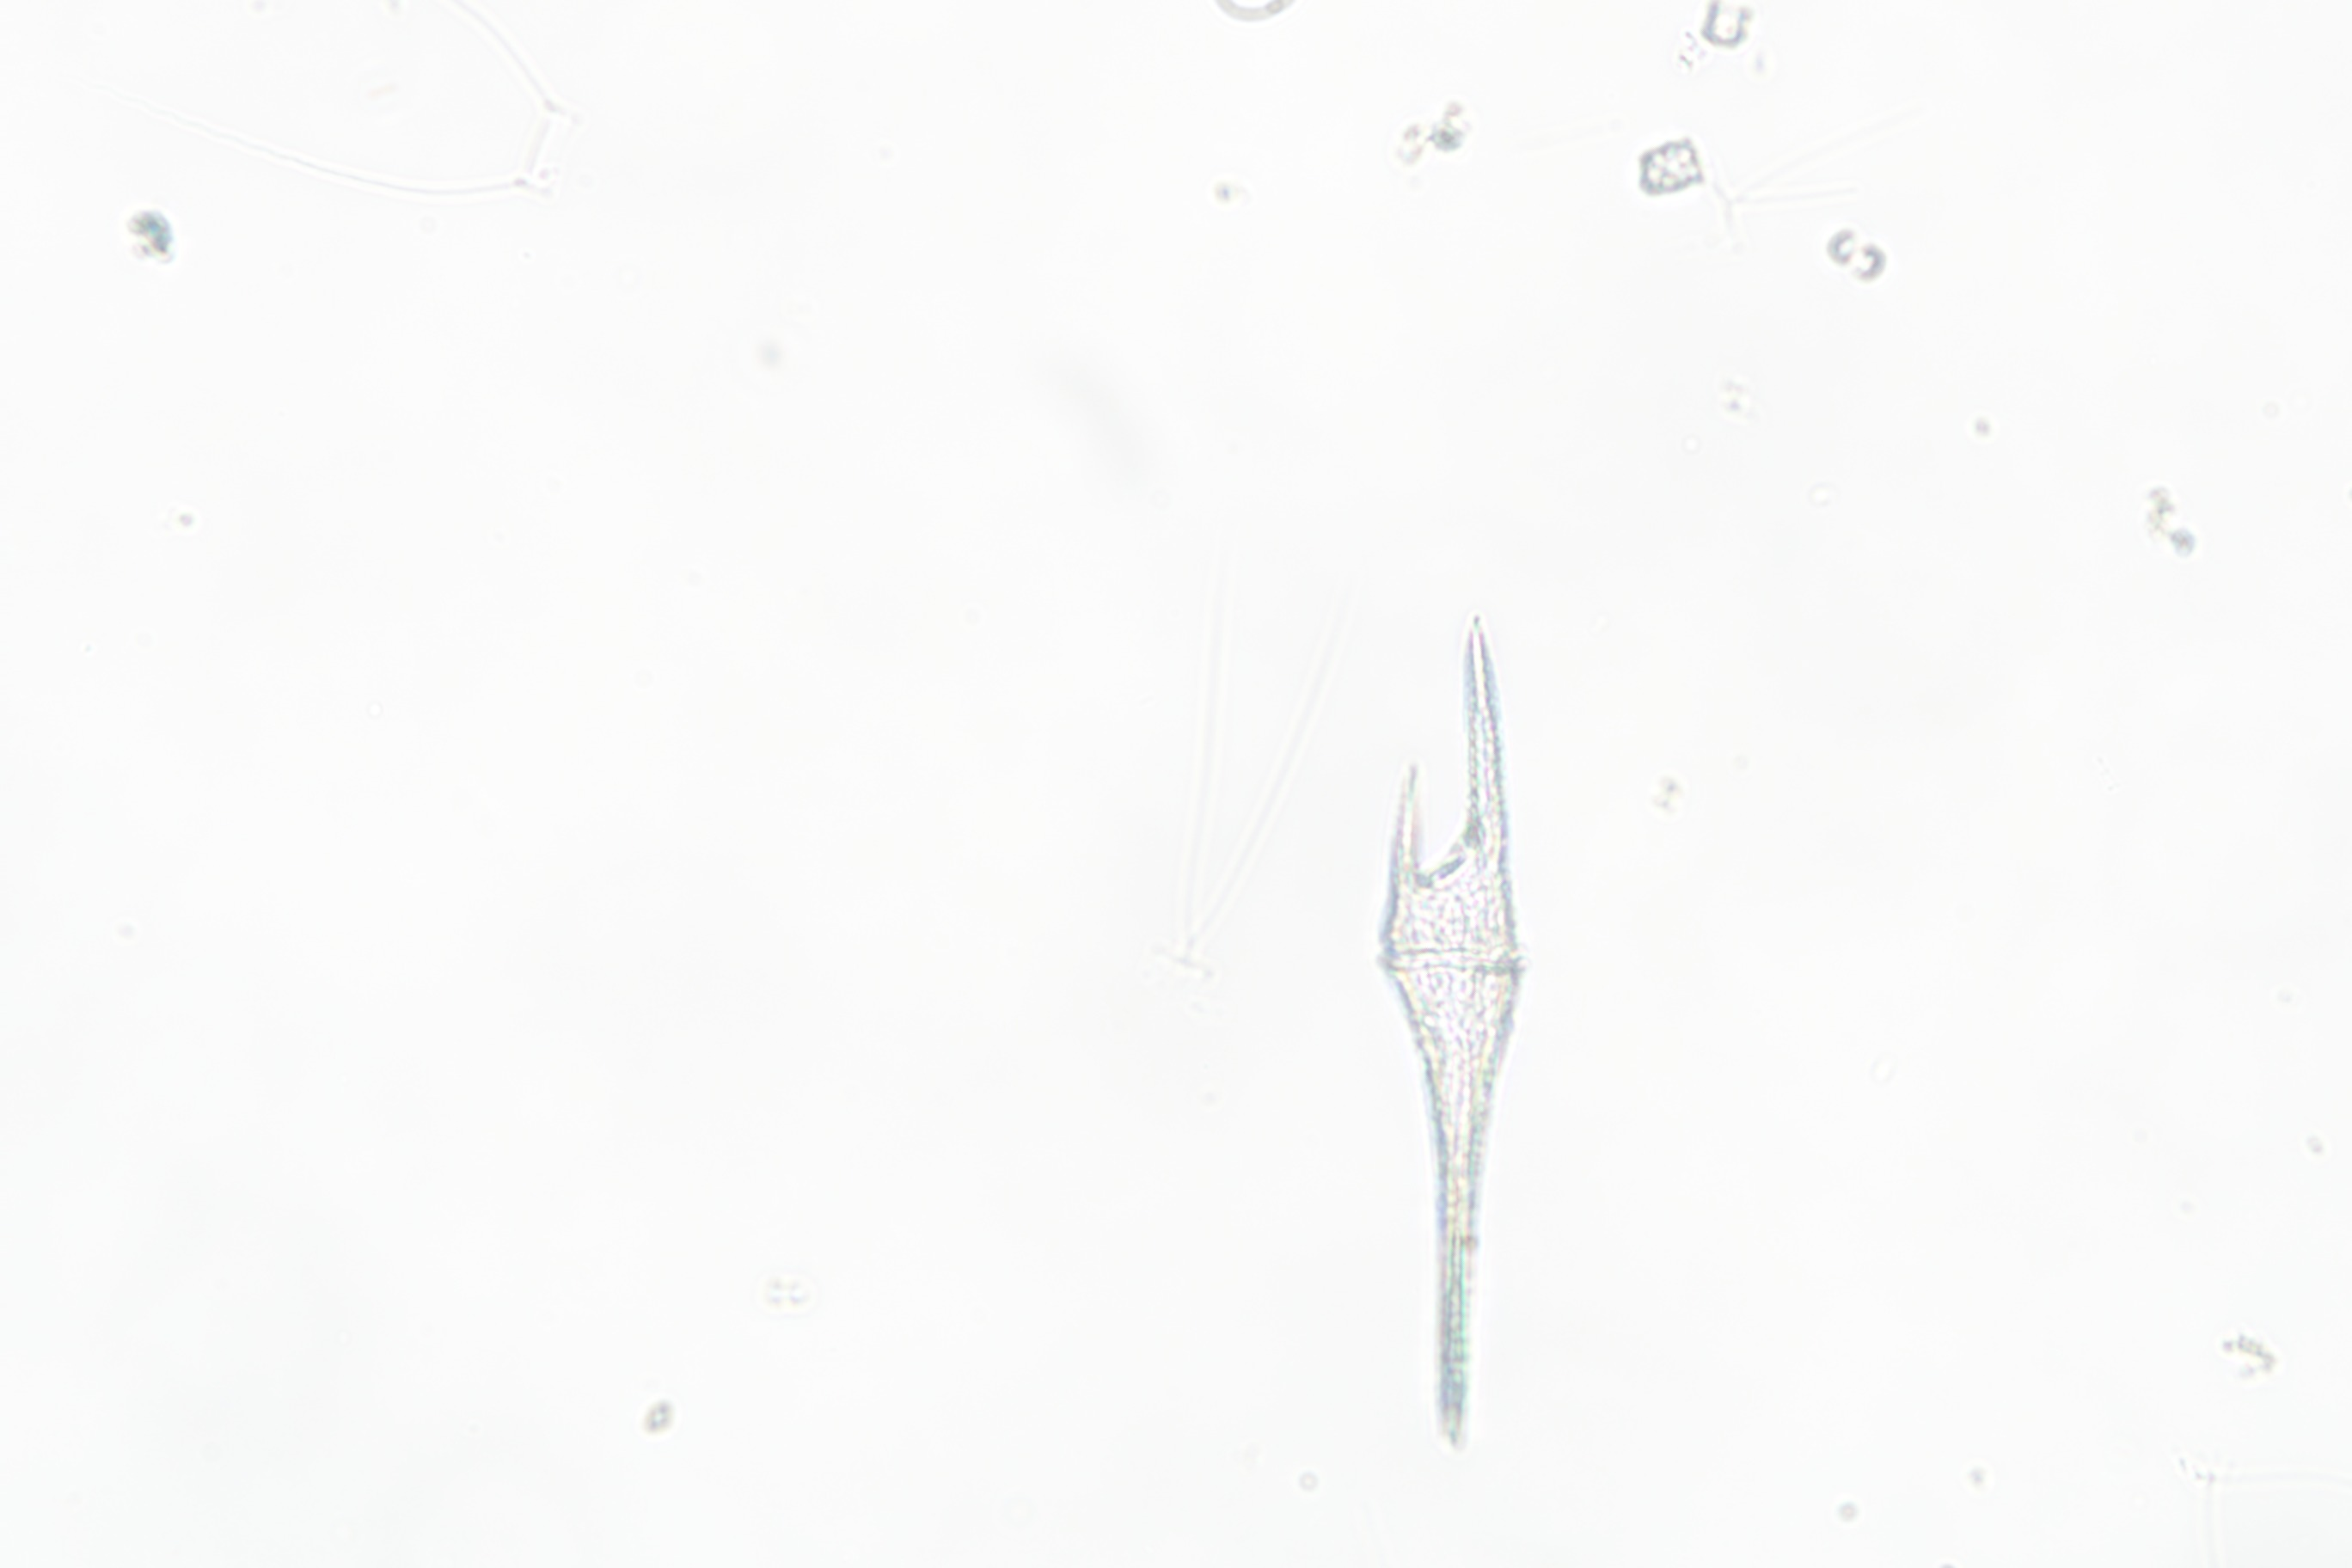ceratium furca: (1340, 591, 1554, 1451)
